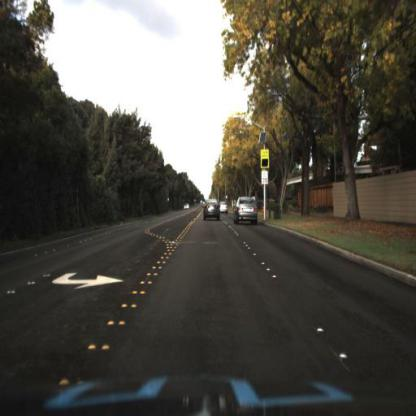car: (231, 191, 259, 226), (200, 198, 221, 223), (182, 199, 192, 217), (220, 200, 230, 216)
